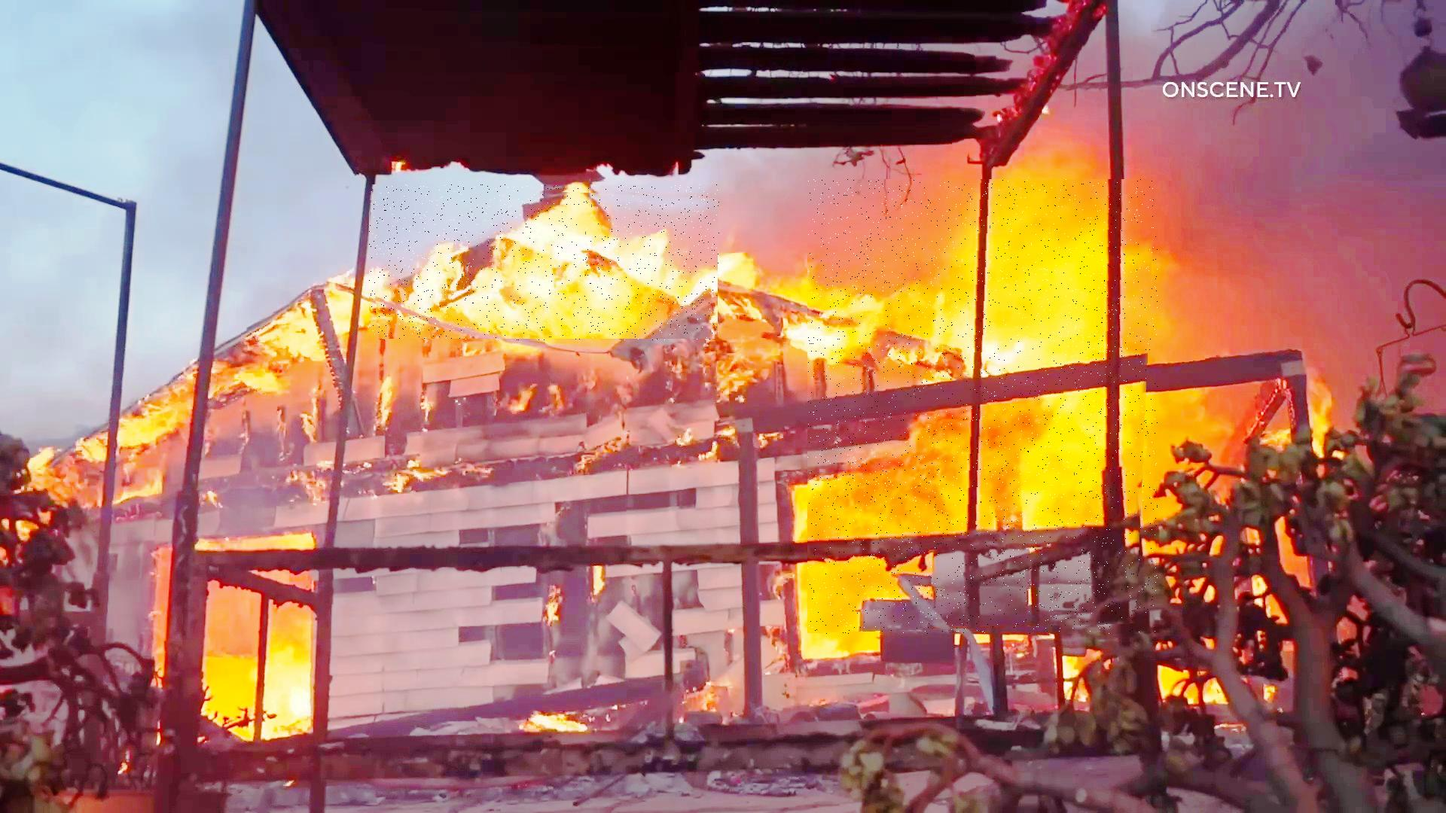fire: (808, 179, 1158, 634), (370, 185, 720, 341)
